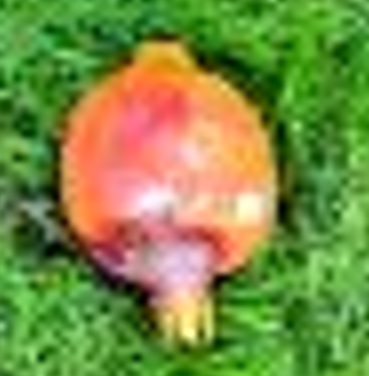pomegranate_B: (59, 40, 282, 353)
